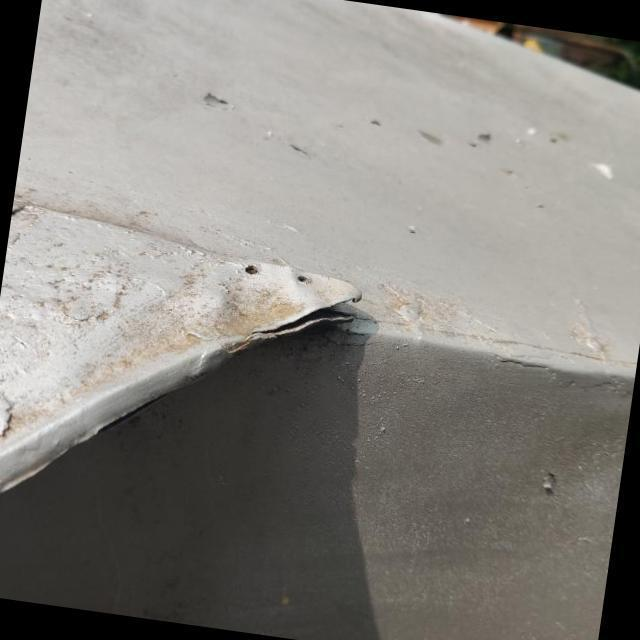Rupture: (245, 275, 378, 372)
